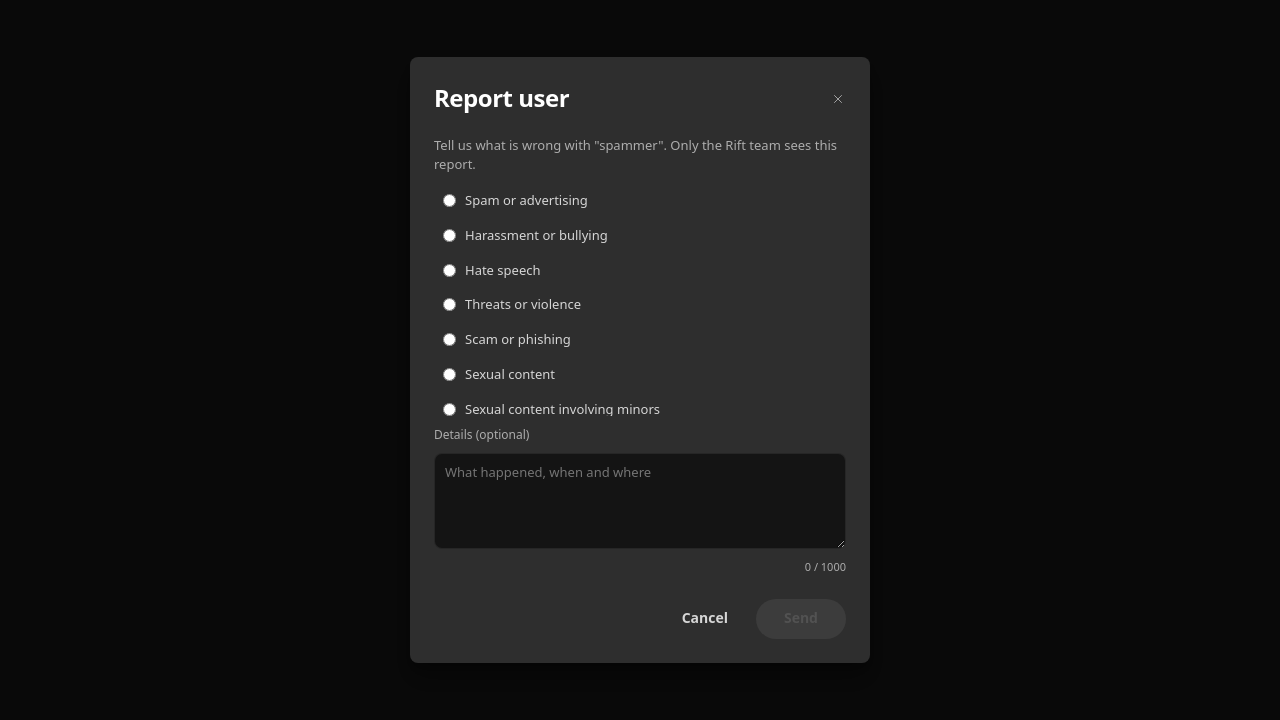
Test: ReportModal › does not land a slow answer on the next report
Click the radio button showing "spam": (450, 200) x1=443 y1=194 x2=456 y2=207
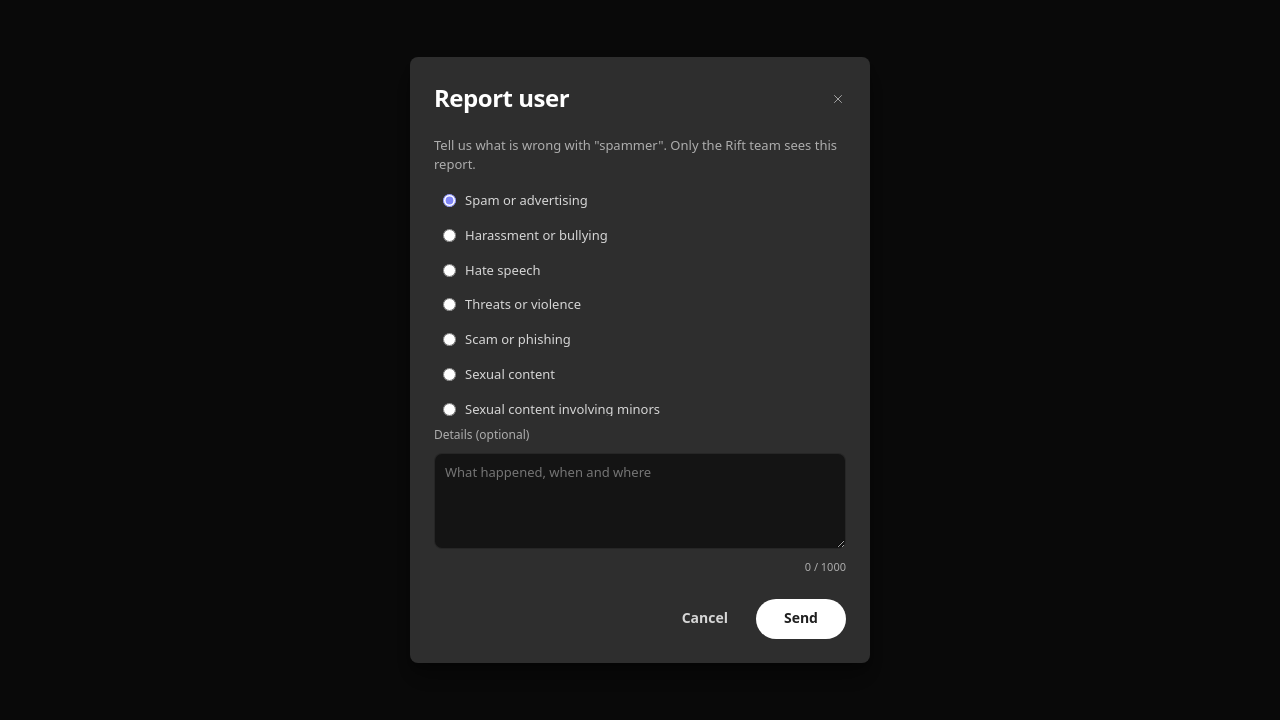
Click the button "Send": (801, 619) x1=756 y1=599 x2=846 y2=639
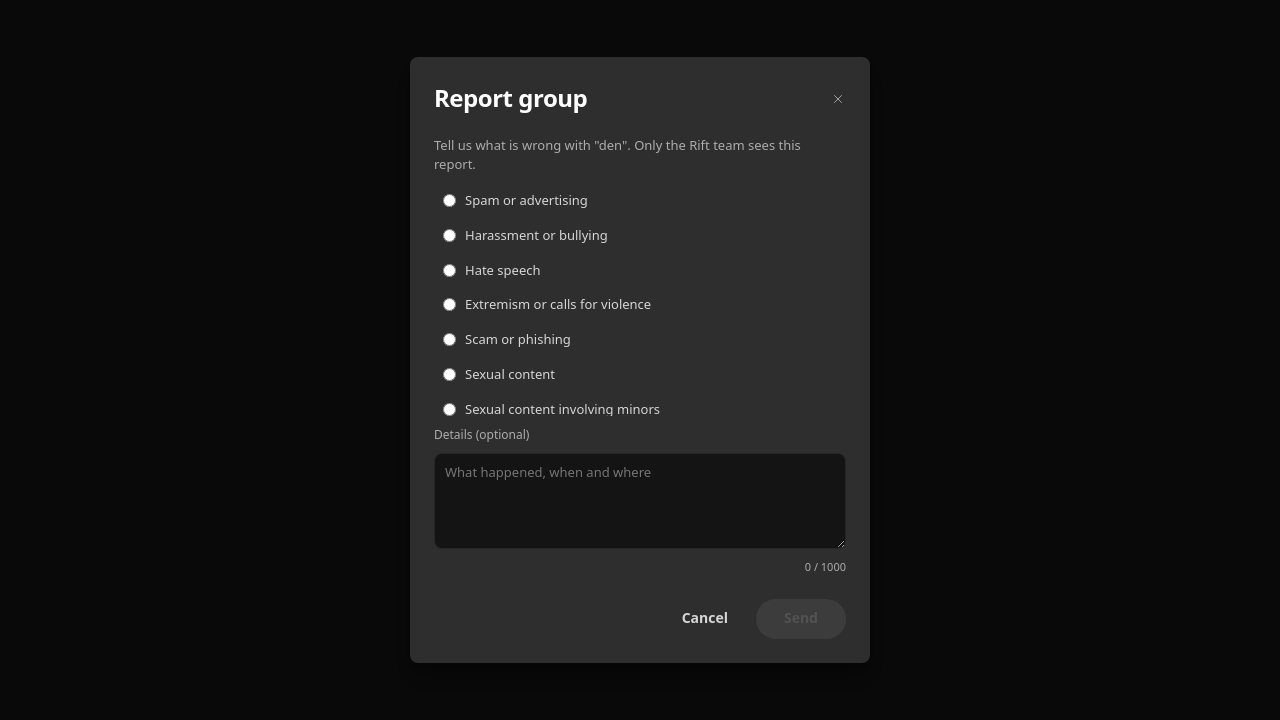
Check: the button "Send" is disabled, box x1=756 y1=599 x2=846 y2=639
